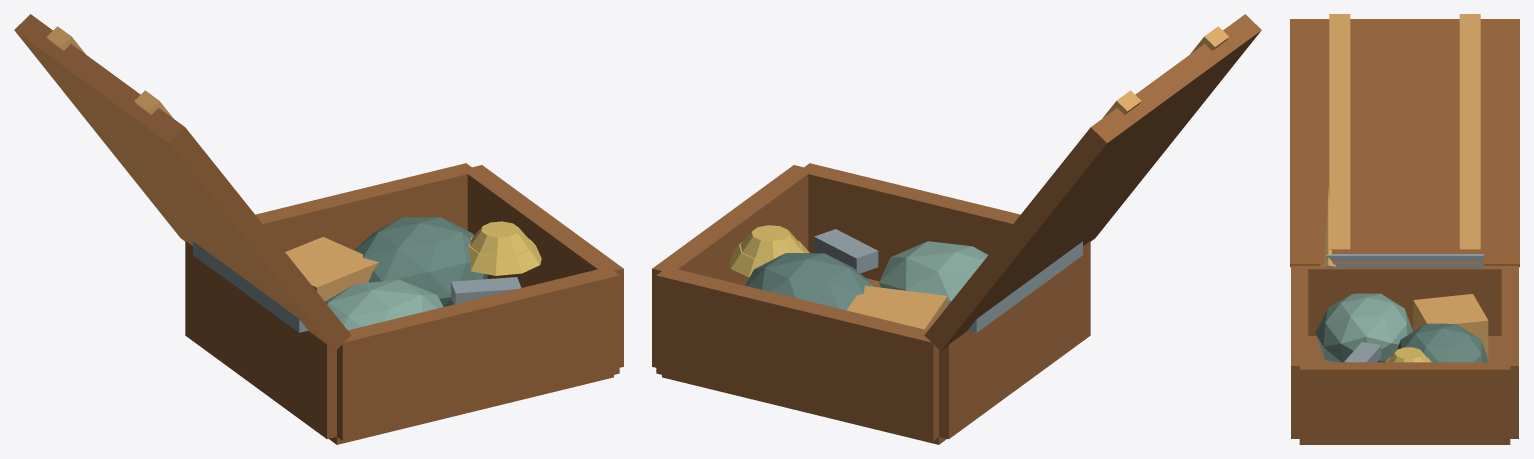
File: ship_cargo_hatch.glb
The picture shows the model from 3 angles, left to right: view 1: azimuth 30°, elevation 25°; view 2: azimuth 150°, elevation 25°; view 3: azimuth 270°, elevation 25°; orthographic projection. The views are drawn at different scales.
Parts seen in each view (by area): view 1: Hatch_Coaming_3, Hatch_Lid, Hatch_Coaming_1, Hatch_Coaming_4, Hatch_Coaming_2, Hatch_Sack_2, Hatch_Sack_1, Hatch_Crate, Hatch_Hinge, Hatch_Coil_2, Hatch_Coil_1, Hatch_Ingot (+1 smaller); view 2: Hatch_Coaming_4, Hatch_Lid, Hatch_Coaming_1, Hatch_Coaming_3, Hatch_Coaming_2, Hatch_Sack_2, Hatch_Sack_1, Hatch_Crate, Hatch_Ingot, Hatch_Hinge, Hatch_Coil_2, Hatch_Floor (+1 smaller); view 3: Hatch_Lid, Hatch_Coaming_2, Hatch_Coaming_1, Hatch_Lid_Batten_1, Hatch_Lid_Batten_2, Hatch_Sack_1, Hatch_Sack_2, Hatch_Coaming_3, Hatch_Coaming_4, Hatch_Crate, Hatch_Hinge, Hatch_Floor (+3 smaller).
Part boxes in pixels (x1,y1,x2,y2): Hatch_Coaming_3: (337, 269, 619, 440); Hatch_Lid: (14, 14, 351, 351); Hatch_Coaming_1: (185, 241, 336, 438); Hatch_Coaming_4: (255, 163, 471, 251); Hatch_Coaming_2: (462, 165, 623, 367); Hatch_Sack_2: (354, 217, 487, 306); Hatch_Sack_1: (325, 279, 443, 330); Hatch_Crate: (285, 237, 378, 301); Hatch_Hinge: (193, 241, 308, 332); Hatch_Coil_2: (470, 221, 530, 256); Hatch_Coil_1: (468, 237, 541, 275); Hatch_Ingot: (451, 277, 521, 304); Hatch_Coaming_4: (656, 269, 938, 440); Hatch_Lid: (924, 14, 1261, 351); Hatch_Coaming_1: (939, 241, 1090, 438); Hatch_Coaming_3: (804, 163, 1020, 281); Hatch_Coaming_2: (652, 165, 813, 367); Hatch_Sack_2: (745, 253, 875, 310); Hatch_Sack_1: (879, 241, 988, 305); Hatch_Crate: (846, 285, 947, 330); Hatch_Ingot: (814, 229, 878, 273); Hatch_Hinge: (967, 241, 1082, 332); Hatch_Coil_2: (740, 225, 800, 259); Hatch_Floor: (662, 278, 946, 444); Hatch_Lid: (1290, 19, 1519, 267); Hatch_Coaming_2: (1299, 362, 1510, 442); Hatch_Coaming_1: (1299, 265, 1510, 335); Hatch_Lid_Batten_1: (1329, 14, 1350, 249); Hatch_Lid_Batten_2: (1459, 14, 1480, 249); Hatch_Sack_1: (1315, 293, 1412, 362); Hatch_Sack_2: (1397, 323, 1488, 362); Hatch_Coaming_3: (1291, 265, 1308, 438); Hatch_Coaming_4: (1501, 265, 1518, 438); Hatch_Crate: (1413, 294, 1488, 358); Hatch_Hinge: (1326, 254, 1483, 267); Hatch_Floor: (1299, 336, 1510, 444).
Size of the model in its own units: 2.07 by 1.58 by 1.2.
